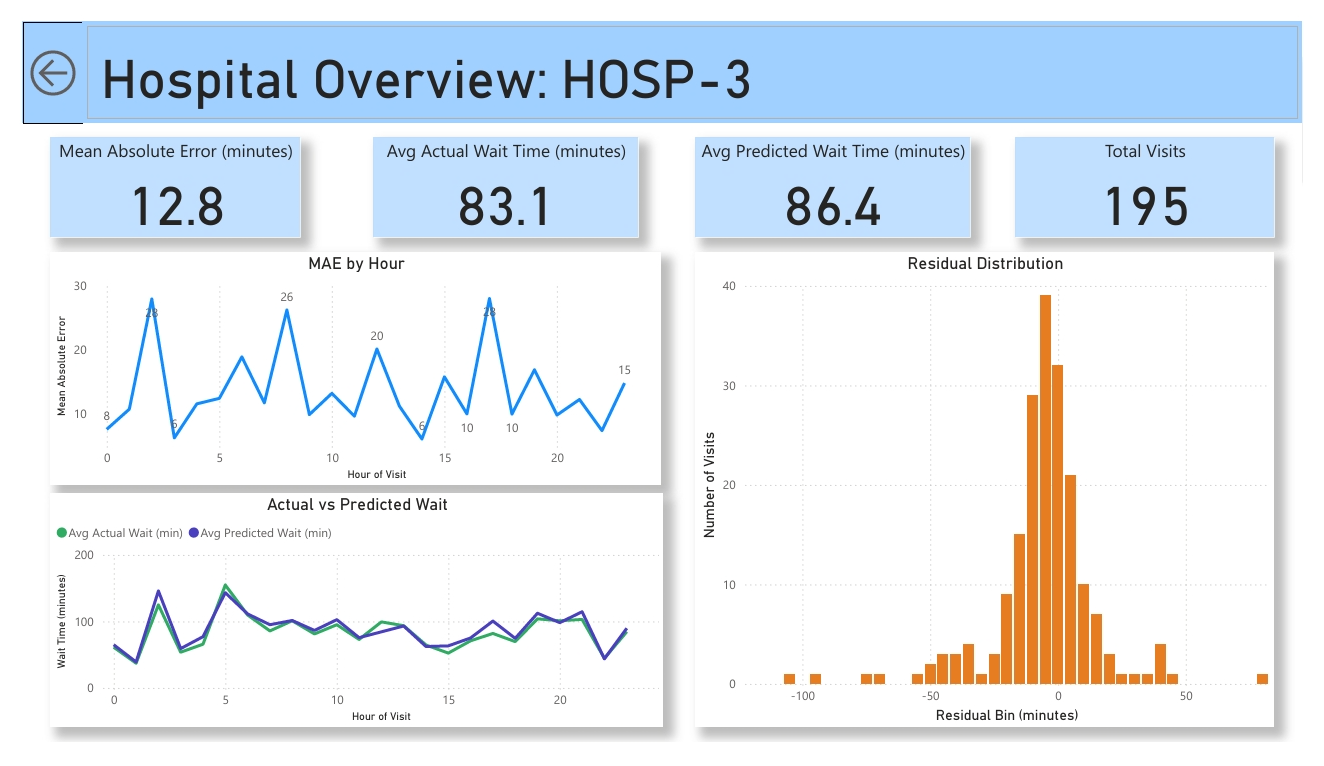

This screenshot's page, from the dashboard's own definition file:
{"tool":"powerbi","page":{"name":"Hospital Detail","canvas":[1280,720],"ordinal":1},"visuals":[{"type":"textbox","box":[60,432.5,150,150],"z":0},{"type":"actionButton","box":[0,0,60.5,102.4],"z":1000},{"type":"card","title":"Avg Actual Wait Time (minutes)","fields":{"Values":["ER_Predictions.Avg_Actual_Wait (min)"]},"box":[350.6,116.3,265.2,99.3],"z":2000},{"type":"card","title":"Mean Absolute Error (minutes)","fields":{"Values":["ER_Predictions.Overall_MAE (min)"]},"box":[27.9,116.3,249.7,99.3],"z":3000},{"type":"card","title":"Avg Predicted Wait Time (minutes)","fields":{"Values":["ER_Predictions.Avg_Predicted_Wait (min)"]},"box":[673.2,116.3,274.6,99.3],"z":4000},{"type":"card","title":"Total Visits","fields":{"Values":["ER_Predictions.Visit_Count"]},"box":[992.7,116.3,259,99.3],"z":5000},{"type":"lineChart","title":"MAE by Hour","fields":{"Y":["ER_Predictions.MAE_By_Hour"],"Category":["ER_Predictions.visit_hour"]},"box":[28.1,231.3,610.9,232.8],"z":6000},{"type":"lineChart","title":"Actual vs Predicted Wait","fields":{"Category":["ER_Predictions.visit_hour"],"Y":["ER_Predictions.Avg_Actual_Wait (min)","ER_Predictions.Avg_Predicted_Wait (min)"]},"box":[28.1,471.9,612.5,234.4],"z":7000},{"type":"clusteredColumnChart","title":"Residual Distribution","fields":{"Y":["CountNonNull(ER_Predictions.residual)"],"Category":["ER_Predictions.Residual Bins"]},"box":[673.4,231.3,578.1,475],"z":8000},{"type":"textbox","box":[79.4,0,634.8,93.8],"z":9000},{"type":"cardVisual","fields":{"Data":["ER_Predictions.Hospital Overview Title"]},"box":[60.5,0,1219.2,102.4],"z":10000}]}

Visuals, with their boxes in screenshot pixels (x1, y1, x2, y2), scaled from the page's 1280x720 canvas onto the 1324x766 screenshot:
textbox: x1=62 y1=460 x2=217 y2=620
actionButton: x1=0 y1=0 x2=63 y2=109
"Avg Actual Wait Time (minutes)" card: x1=363 y1=124 x2=637 y2=229
"Mean Absolute Error (minutes)" card: x1=29 y1=124 x2=287 y2=229
"Avg Predicted Wait Time (minutes)" card: x1=696 y1=124 x2=980 y2=229
"Total Visits" card: x1=1027 y1=124 x2=1295 y2=229
"MAE by Hour" lineChart: x1=29 y1=246 x2=661 y2=494
"Actual vs Predicted Wait" lineChart: x1=29 y1=502 x2=663 y2=751
"Residual Distribution" clusteredColumnChart: x1=697 y1=246 x2=1295 y2=751
textbox: x1=82 y1=0 x2=739 y2=100
cardVisual - ER_Predictions.Hospital Overview Title: x1=63 y1=0 x2=1323 y2=109
